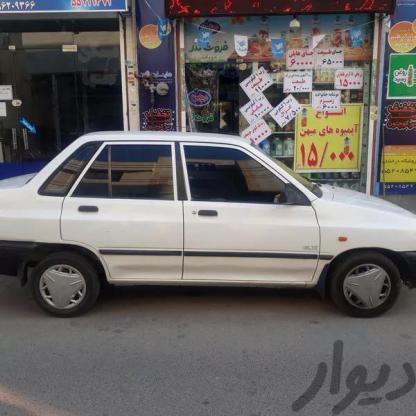Car: (0, 132, 416, 323)
